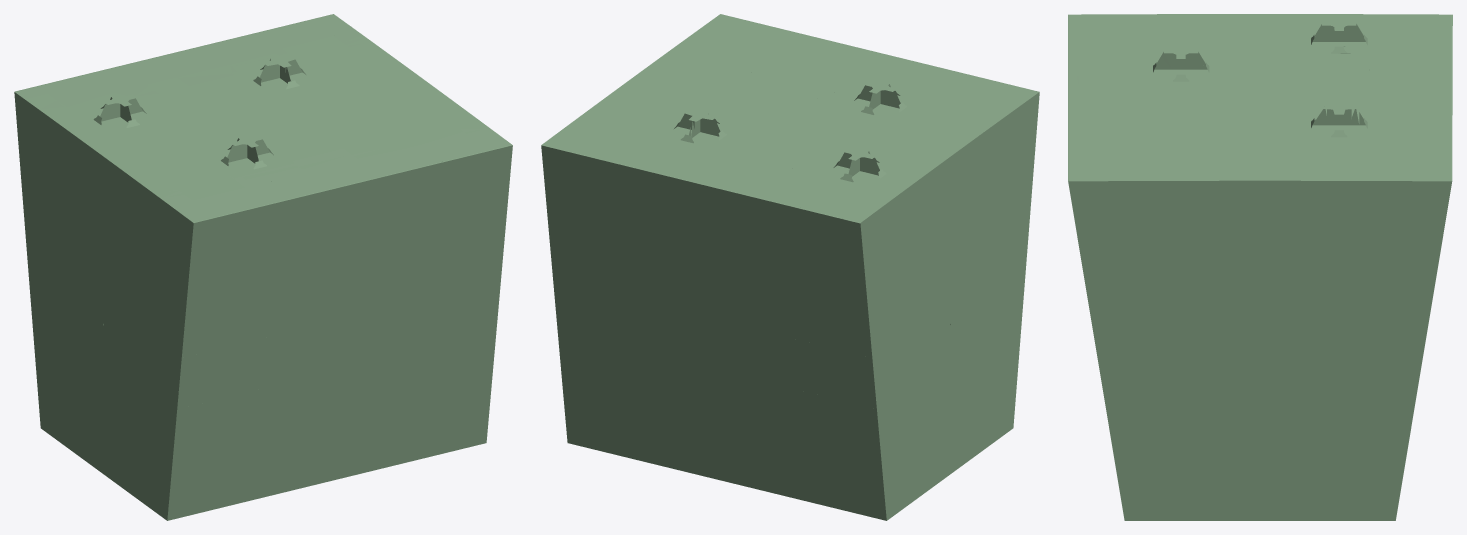
Rendered from NO_4_CENTRAL_CARGO_OIL_TK.glb.
3 views of the same model, side by side, from view 1: azimuth 30°, elevation 25°; view 2: azimuth 150°, elevation 25°; view 3: azimuth 270°, elevation 25° (orthographic). The views are drawn at different scales.
Visible parts, largest first — view 1: PL_LBHDxNo4CenterTankS_009001-19.5_NVA36_1993, PL_LBHDxNo4CenterTankS_010001-17.5_NVA32_1993, PL_LBHDxNo4CenterTankS_018003-17.5_NVA36_1993, PL_LBHDxNo4CenterTankS_009004-19.5_NVA36_1993, PL_LBHDxNo4CenterTankS_011005-17_NVA32_1993, PL_LBHDxNo4CenterTankS_013002-15_NVA32_1993, PL_LBHDxNo4CenterTankS_010004-17.5_NVA32_1993, PL_LBHDxNo4CenterTankS_009003-19.5_NVA36_1993, PL_LBHDxNo4CenterTankS_013001-15_NVA32_1993, PL_TransBHDxBHD69P_001001-19.5_NVA32_1993, PL_LBHDxNo4CenterTankS_009005-19.5_NVA36_1993, PL_LBHDxNo4CenterTankS_011007-17_NVA32_1993 (+132 smaller); view 2: PL_LBHDxNo4CenterTankP_009001-19.5_NVA36_1993, PL_LBHDxNo4CenterTankP_010001-17.5_NVA32_1993, PL_LBHDxNo4CenterTankP_009004-19.5_NVA36_1993, PL_LBHDxNo4CenterTankP_018002-17.5_NVA36_1993, PL_LBHDxNo4CenterTankP_011005-17_NVA32_1993, PL_LBHDxNo4CenterTankP_013003-15_NVA32_1993, PL_LBHDxNo4CenterTankP_010004-17.5_NVA32_1993, PL_LBHDxNo4CenterTankP_009002-19.5_NVA36_1993, PL_LBHDxNo4CenterTankP_013001-15_NVA32_1993, PL_TransBHDxBHD69P_001001-19.5_NVA32_1993, PL_LBHDxNo4CenterTankP_009005-19.5_NVA36_1993, PL_LBHDxNo4CenterTankP_011007-17_NVA32_1993 (+130 smaller); view 3: PL_TransBHDxBHD75P_001001-19.5_NVA32_1993, PL_TransBHDxBHD75P_006001-14.5_NVA32_1993, PL_TransBHDxBHD75P_004001-17_NVA32_1993, PL_TransBHDxBHD75P_012001-13_NVA_1993, PL_TransBHDxBHD75S_018001-13_NVA_1993, PL_TransBHDxBHD75P_012002-13_NVA_1993, PL_TransBHDxBHD75S_018002-13_NVA_1993, PL_TransBHDxBHD75S_001001-19.5_NVA32_1993, PL_TransBHDxBHD75S_010002-14.5_NVA32_1993, PL_TransBHDxBHD75S_004001-18.5_NVA32_1993, PL_TransBHDxBHD75P_002001-18.5_NVA32_1993, PL_TransBHDxBHD75S_006002-17_NVA32_1993 (+102 smaller).
Boxes of the visible parts, x1,y1,x2,y2 form: PL_LBHDxNo4CenterTankS_009001-19.5_NVA36_1993: [241, 450, 306, 502]; PL_LBHDxNo4CenterTankS_010001-17.5_NVA32_1993: [245, 415, 309, 465]; PL_LBHDxNo4CenterTankS_018003-17.5_NVA36_1993: [265, 190, 329, 239]; PL_LBHDxNo4CenterTankS_009004-19.5_NVA36_1993: [356, 424, 415, 474]; PL_LBHDxNo4CenterTankS_011005-17_NVA32_1993: [249, 374, 313, 422]; PL_LBHDxNo4CenterTankS_013002-15_NVA32_1993: [369, 274, 428, 323]; PL_LBHDxNo4CenterTankS_010004-17.5_NVA32_1993: [359, 388, 418, 437]; PL_LBHDxNo4CenterTankS_009003-19.5_NVA36_1993: [303, 437, 359, 487]; PL_LBHDxNo4CenterTankS_013001-15_NVA32_1993: [316, 287, 372, 336]; PL_TransBHDxBHD69P_001001-19.5_NVA32_1993: [57, 400, 103, 474]; PL_LBHDxNo4CenterTankS_009005-19.5_NVA36_1993: [412, 411, 466, 460]; PL_LBHDxNo4CenterTankS_011007-17_NVA32_1993: [363, 348, 422, 394]; PL_LBHDxNo4CenterTankP_009001-19.5_NVA36_1993: [747, 450, 812, 502]; PL_LBHDxNo4CenterTankP_010001-17.5_NVA32_1993: [744, 415, 808, 465]; PL_LBHDxNo4CenterTankP_009004-19.5_NVA36_1993: [638, 423, 697, 474]; PL_LBHDxNo4CenterTankP_018002-17.5_NVA36_1993: [724, 190, 788, 239]; PL_LBHDxNo4CenterTankP_011005-17_NVA32_1993: [741, 374, 805, 422]; PL_LBHDxNo4CenterTankP_013003-15_NVA32_1993: [625, 274, 684, 323]; PL_LBHDxNo4CenterTankP_010004-17.5_NVA32_1993: [635, 388, 694, 437]; PL_LBHDxNo4CenterTankP_009002-19.5_NVA36_1993: [695, 437, 750, 487]; PL_LBHDxNo4CenterTankP_013001-15_NVA32_1993: [681, 287, 737, 336]; PL_TransBHDxBHD69P_001001-19.5_NVA32_1993: [903, 434, 949, 508]; PL_LBHDxNo4CenterTankP_009005-19.5_NVA36_1993: [587, 411, 641, 460]; PL_LBHDxNo4CenterTankP_011007-17_NVA32_1993: [631, 348, 690, 394]; PL_TransBHDxBHD75P_001001-19.5_NVA32_1993: [1260, 477, 1359, 520]; PL_TransBHDxBHD75P_006001-14.5_NVA32_1993: [1260, 308, 1359, 348]; PL_TransBHDxBHD75P_004001-17_NVA32_1993: [1260, 391, 1359, 429]; PL_TransBHDxBHD75P_012001-13_NVA_1993: [1260, 180, 1359, 221]; PL_TransBHDxBHD75S_018001-13_NVA_1993: [1161, 180, 1260, 221]; PL_TransBHDxBHD75P_012002-13_NVA_1993: [1359, 181, 1452, 221]; PL_TransBHDxBHD75S_018002-13_NVA_1993: [1068, 181, 1160, 221]; PL_TransBHDxBHD75S_001001-19.5_NVA32_1993: [1161, 477, 1243, 520]; PL_TransBHDxBHD75S_010002-14.5_NVA32_1993: [1161, 308, 1243, 348]; PL_TransBHDxBHD75S_004001-18.5_NVA32_1993: [1161, 438, 1243, 477]; PL_TransBHDxBHD75P_002001-18.5_NVA32_1993: [1279, 438, 1359, 477]; PL_TransBHDxBHD75S_006002-17_NVA32_1993: [1161, 391, 1243, 429].
Bounding box in the file's own units: 31.51 × 31.54 × 30.65.
